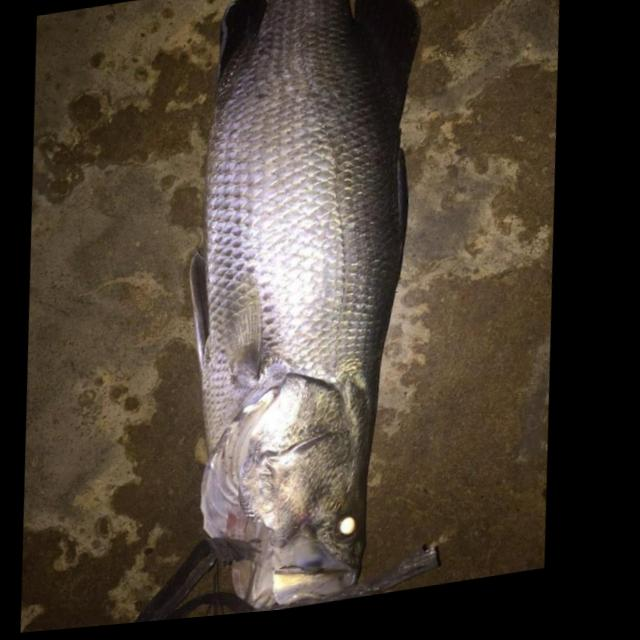Seabass: (133, 0, 468, 623)
